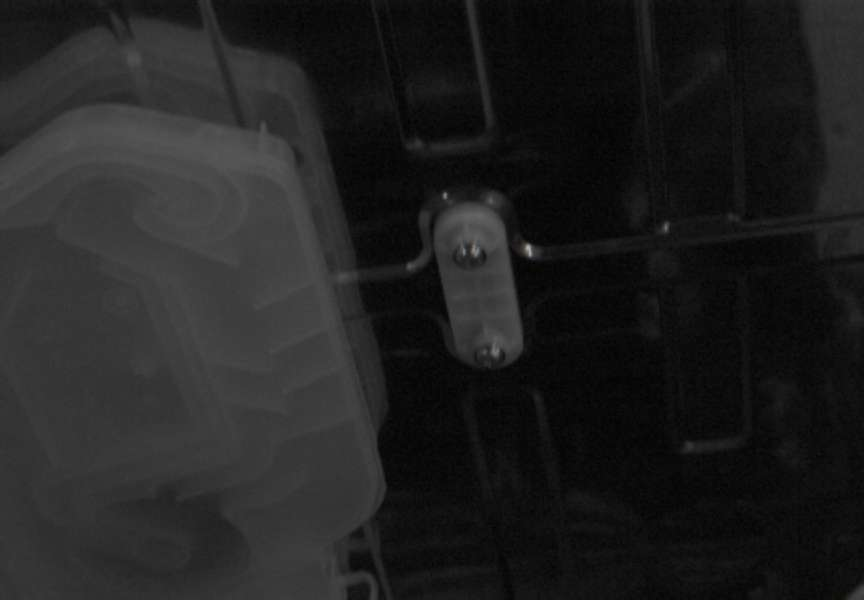screw: (453, 242, 487, 270), (475, 342, 506, 370)
